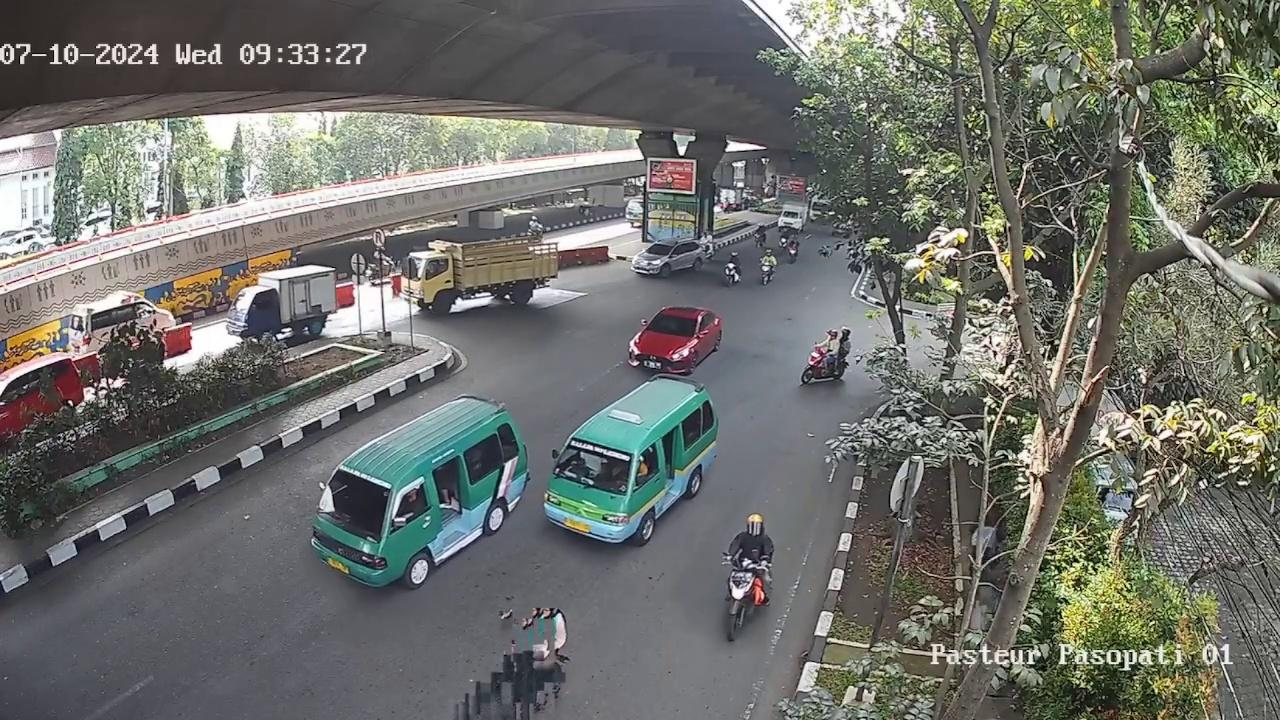tidak-pakai: (576, 450, 606, 477)
windshield: (317, 469, 392, 537), (550, 436, 637, 494), (646, 307, 699, 341)
